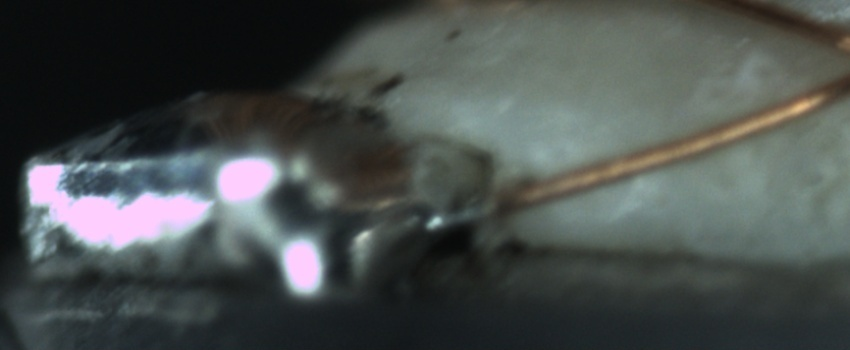TS: (435, 188, 501, 232)
